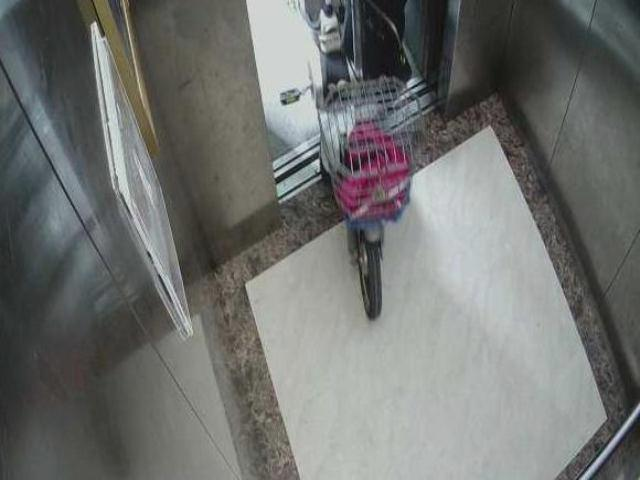emotor: (270, 4, 422, 337)
